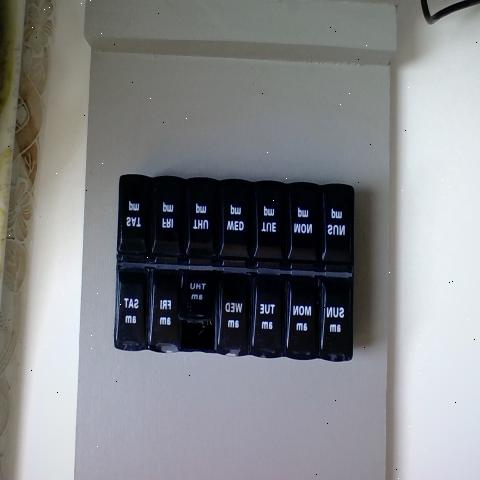FRI-am: (154, 270, 182, 350)
FRI-pm: (152, 178, 187, 264)
MON-am: (290, 276, 325, 356)
MON-pm: (290, 184, 324, 267)
Open: (180, 293, 218, 351)
PillBox: (92, 150, 376, 373)
SAT-am: (116, 270, 153, 348)
SAT-pm: (119, 176, 155, 259)
SUN-am: (321, 276, 354, 362)
SUN-pm: (324, 184, 355, 272)
THU-pm: (184, 182, 220, 260)
TUE-am: (256, 276, 287, 357)
TUE-pm: (255, 183, 286, 264)
WED-am: (223, 271, 255, 353), (219, 187, 251, 267)
